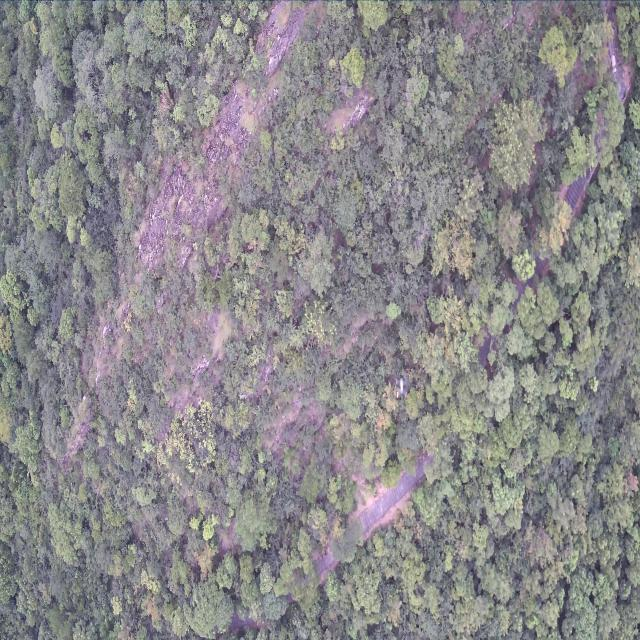UAV: (395, 377, 408, 398)
